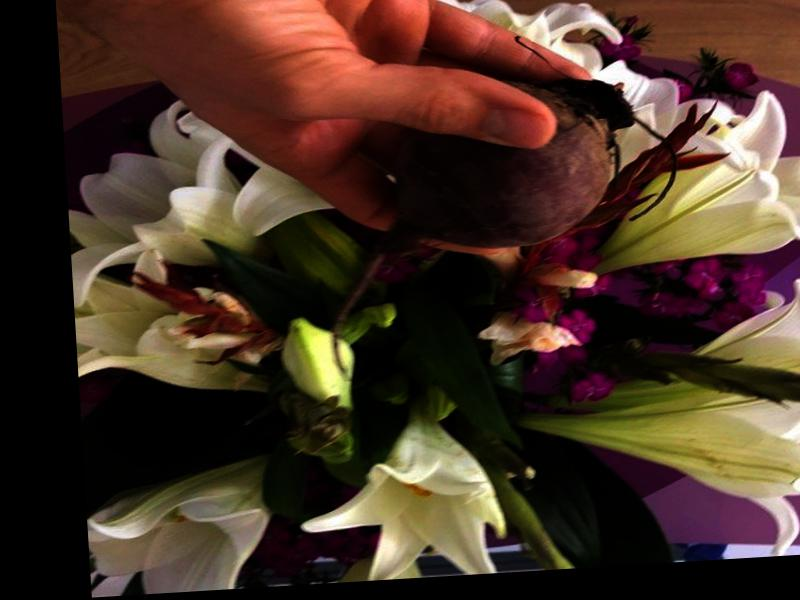Beet: (316, 71, 688, 376)
